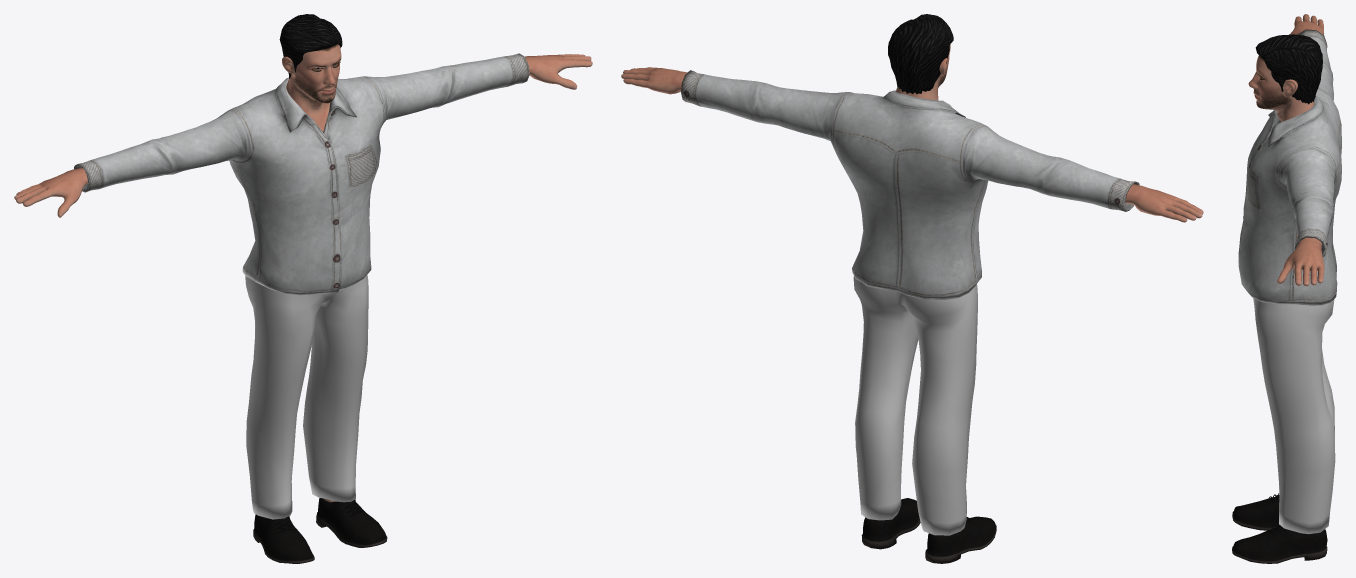
Rendered from Satpam2.obj.
3 renders of one model, left to right at view 1: azimuth 30°, elevation 25°; view 2: azimuth 150°, elevation 25°; view 3: azimuth 270°, elevation 25°, orthographic. The views are drawn at different scales.
Parts seen in each view (by area): view 1: Tops, Bottoms, Body, Shoes, Hair; view 2: Tops, Bottoms, Hair, Shoes, Body; view 3: Tops, Bottoms, Body, Shoes, Hair.
Part boxes in pixels (x1,y1,x2,y2): Tops: (74,53,529,295); Bottoms: (245,275,368,519); Body: (14,44,592,502); Shoes: (253,498,387,563); Hair: (279,14,342,78); Tops: (681,70,1139,299); Bottoms: (853,276,977,535); Hair: (888,14,953,94); Shoes: (861,498,996,563); Body: (621,44,1203,222); Tops: (1238,29,1341,305); Bottoms: (1253,298,1335,534); Body: (1248,14,1324,286); Shoes: (1232,493,1327,563); Hair: (1255,34,1322,104).
Bounding box in the file's own units: 215 × 185 × 36.72.
